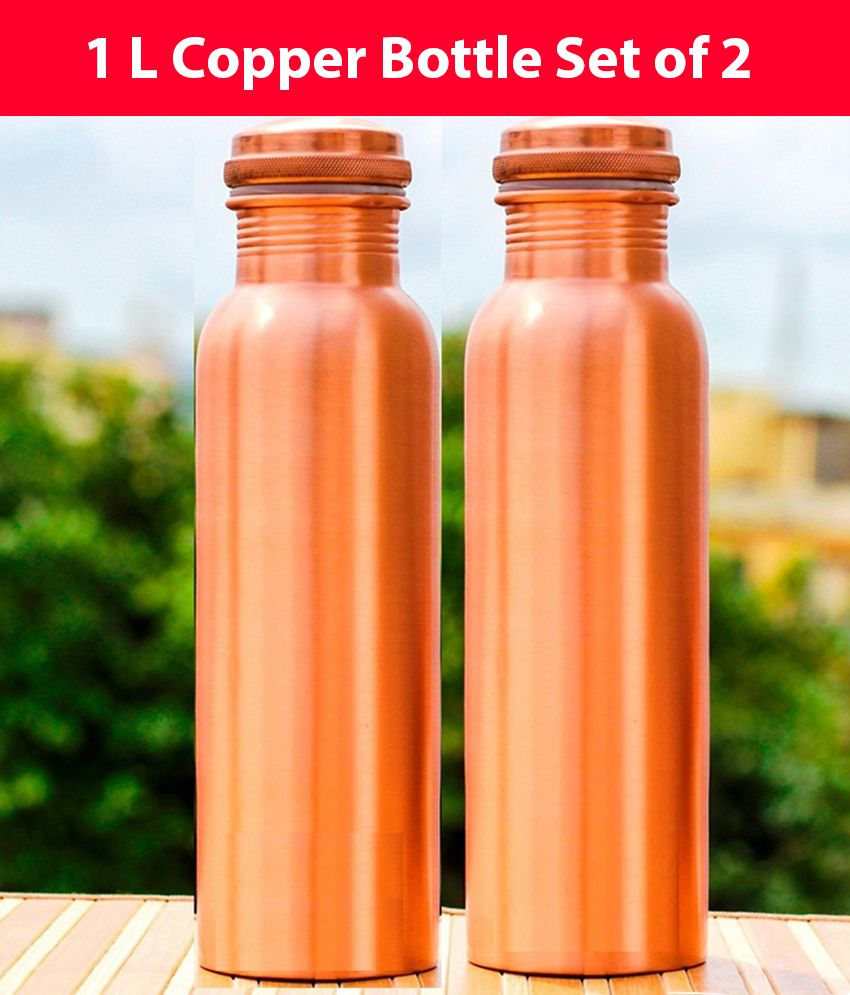bottle: (189, 116, 454, 992), (457, 117, 723, 983)
